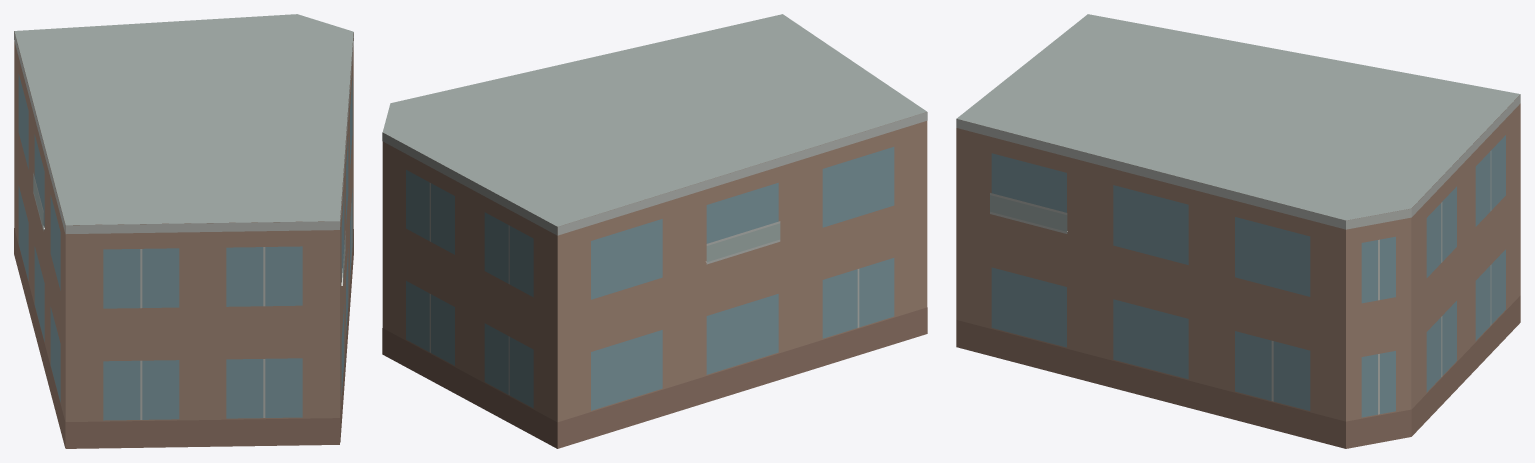
File: survey-upis-32987032.glb
The picture shows the model from 3 angles, left to right: view 1: azimuth 30°, elevation 25°; view 2: azimuth 150°, elevation 25°; view 3: azimuth 270°, elevation 25°; orthographic projection. The views are drawn at different scales.
Parts seen in each view (by area): view 1: survey-upis-32987032.tmp; view 2: survey-upis-32987032.tmp; view 3: survey-upis-32987032.tmp.
Boxes of the visible parts, x1,y1,x2,y2 form: survey-upis-32987032.tmp: (14, 14, 353, 448); survey-upis-32987032.tmp: (382, 14, 927, 448); survey-upis-32987032.tmp: (956, 14, 1520, 448).
Size of the model in its own units: 11.84 by 6.1 by 13.67.
